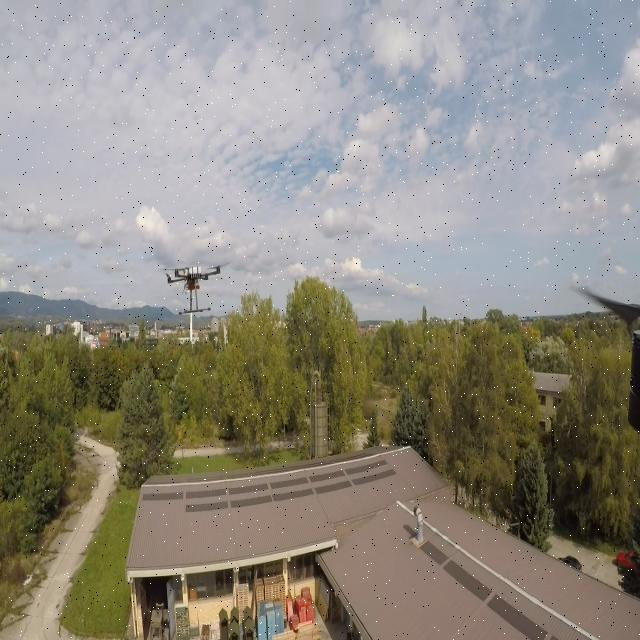UAV: (153, 255, 237, 324)
